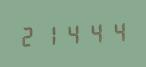four: (62, 20, 83, 46), (84, 19, 105, 45), (106, 18, 127, 44)
one: (40, 21, 61, 47)
two: (18, 22, 39, 48)
